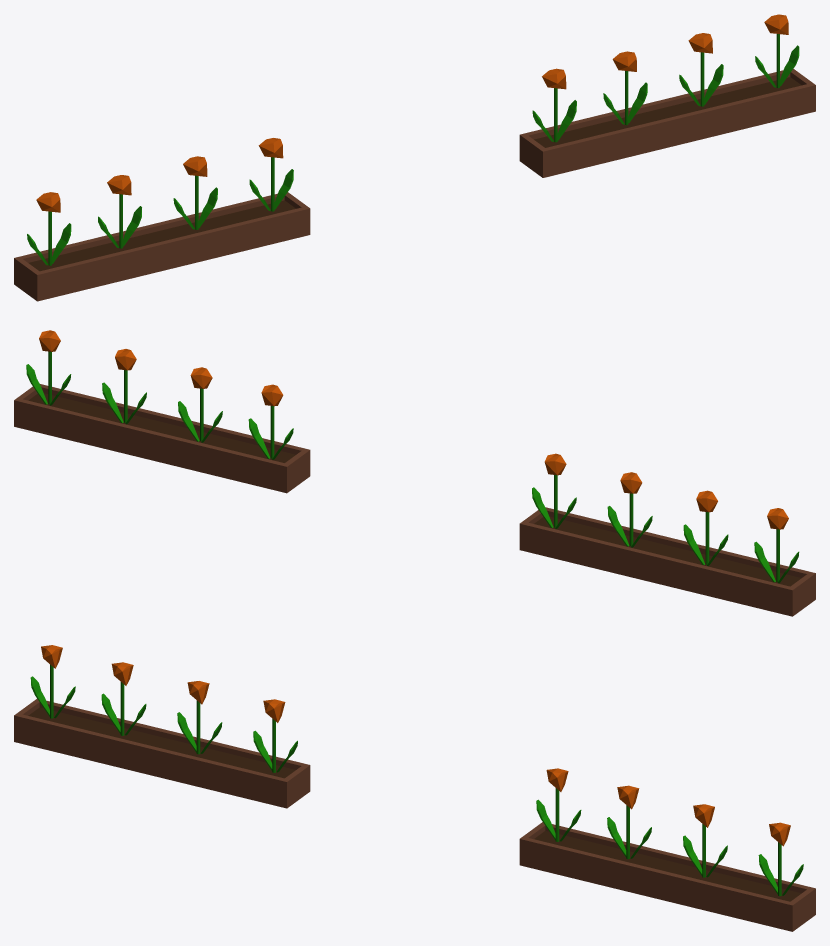
The model's file is WindowLargeAcc_Flowers.fbx.
3 renders of one model, top to bottom at view 1: azimuth 30°, elevation 25°; view 2: azimuth 150°, elevation 25°; view 3: azimuth 330°, elevation 25°, orthographic.
Visible parts, largest first — view 1: WindowLargeAcc_Flowers; view 2: WindowLargeAcc_Flowers; view 3: WindowLargeAcc_Flowers.
Part boxes in pixels (x1,y1,x2,y2): WindowLargeAcc_Flowers: (14,14,815,301); WindowLargeAcc_Flowers: (14,330,815,616); WindowLargeAcc_Flowers: (14,645,815,931).
Bounding box in the file's own units: 154 × 17.31 × 8.
